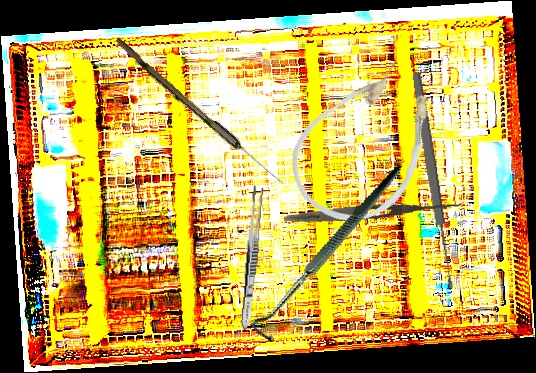Cannula: (270, 41, 465, 245)
Dressing Forceps: (283, 196, 463, 227), (238, 184, 265, 331)
Hook Surgical: (217, 165, 444, 347)
Surgical Spoon: (111, 37, 288, 188), (409, 71, 457, 290)
